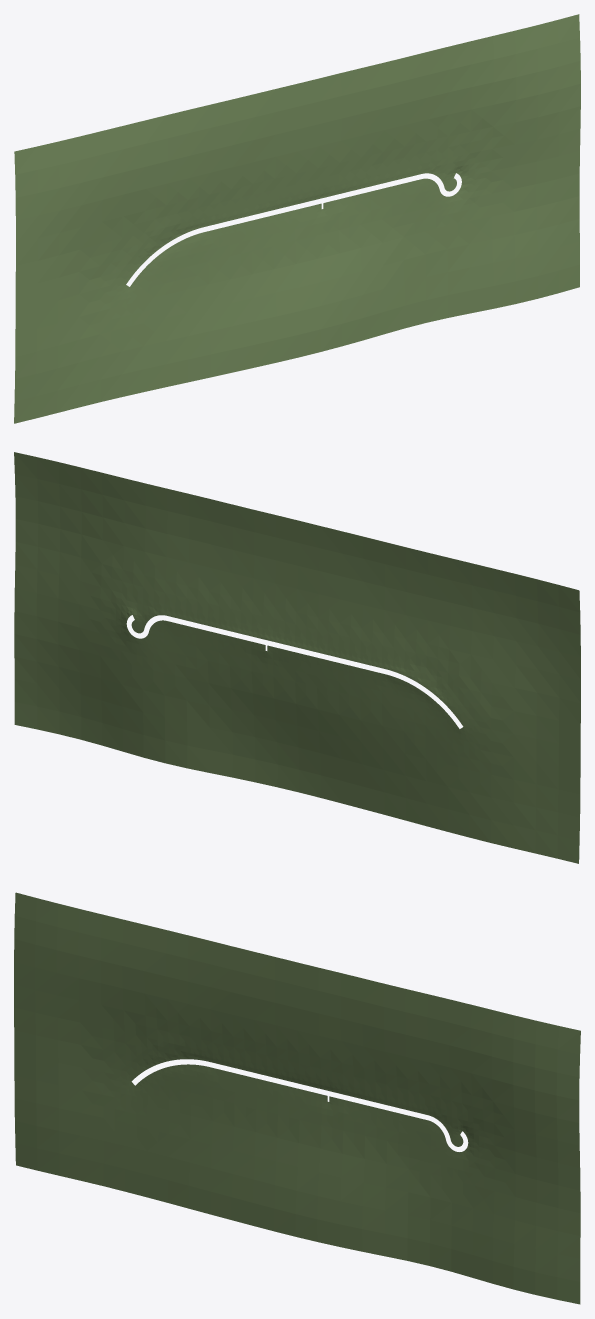
The model's file is scenario12.obj.
The picture shows the model from 3 angles, top to bottom: view 1: azimuth 30°, elevation 25°; view 2: azimuth 150°, elevation 25°; view 3: azimuth 330°, elevation 25°; orthographic projection.
Parts seen in each view (by area): view 1: Background; view 2: Background; view 3: Background.
Part boxes in pixels (box(x1,y1,x2,y2)): Background: box(14, 14, 580, 423); Background: box(14, 452, 580, 863); Background: box(14, 892, 580, 1304).
Bounding box in the file's own units: 1040 × 480 × 16.25.
